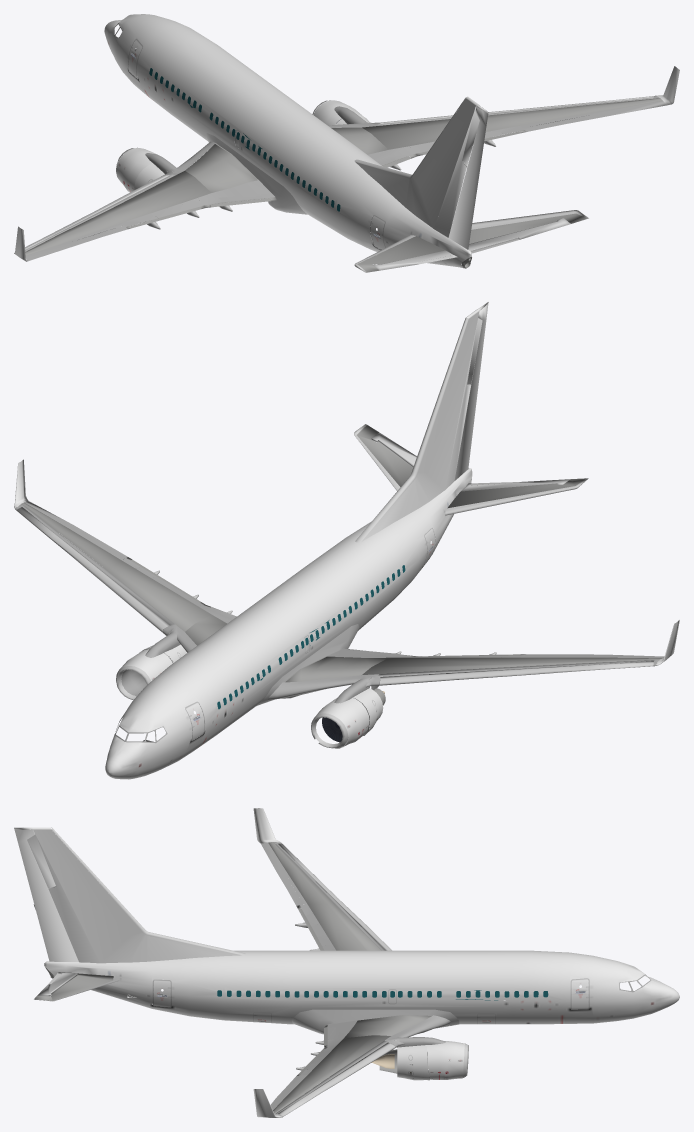
3 renders of one model, top to bottom at view 1: azimuth 30°, elevation 25°; view 2: azimuth 150°, elevation 25°; view 3: azimuth 270°, elevation 25°, orthographic. The views are drawn at different scales.
Parts seen in each view (by area): view 1: fuselage, apuexht, ngww, lhelevator, windowslh; view 2: fuselage, apuexht, lhelevator, ngww, windowslh; view 3: fuselage, apuexht, ngww, lhelevator, windowslh.
Boxes of the visible parts, x1=… form: fuselage: x1=14, y1=14, x2=679, y2=268; apuexht: x1=25, y1=98, x2=662, y2=272; ngww: x1=25, y1=23, x2=667, y2=260; lhelevator: x1=25, y1=96, x2=653, y2=272; windowslh: x1=149, y1=68, x2=340, y2=211; fuselage: x1=14, y1=302, x2=679, y2=779; apuexht: x1=21, y1=425, x2=661, y2=716; lhelevator: x1=16, y1=317, x2=653, y2=748; ngww: x1=15, y1=501, x2=664, y2=743; windowslh: x1=217, y1=565, x2=405, y2=709; fuselage: x1=14, y1=808, x2=679, y2=1117; apuexht: x1=34, y1=842, x2=431, y2=1113; ngww: x1=158, y1=842, x2=651, y2=1117; lhelevator: x1=33, y1=827, x2=468, y2=1116; windowslh: x1=217, y1=990, x2=548, y2=1000.
Size of the model in its own units: 34.85 by 12.08 by 34.93.
8 materials, 1 textured.
